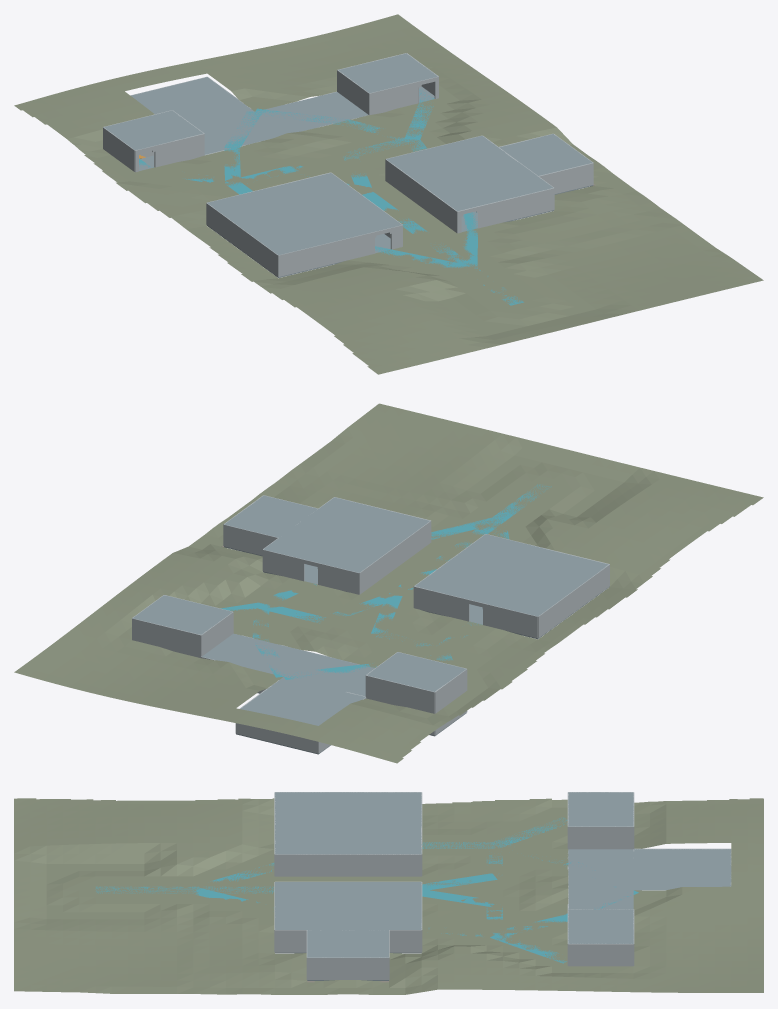
The model's file is open-circulation.glb.
3 views of the same model, one above another, from view 1: azimuth 30°, elevation 25°; view 2: azimuth 150°, elevation 25°; view 3: azimuth 270°, elevation 25° (orthographic). The views are drawn at different scales.
Visible parts, largest first — view 1: Saved editor terrain WLD-07, Ceiling cap chapel, Ceiling cap cottage, Ceiling cap chamber, Flat route shell Wall chapel S, Ceiling cap west-stair, Ceiling cap east-stair, Ceiling cap tool, Ceiling cap ossuary.002, Ceiling cap ossuary, Flat route shell Wall cottage S.001, Wall cottage W (+7 smaller); view 2: Saved editor terrain WLD-07, Ceiling cap chapel, Ceiling cap cottage, Ceiling cap chamber, Ceiling cap east-stair, Ceiling cap tool, Ceiling cap west-stair, Ceiling cap ossuary, Ceiling cap ossuary.002, Wall cottage W, Wall chapel W, Wall east-stair N (+10 smaller); view 3: Saved editor terrain WLD-07, Ceiling cap chapel, Ceiling cap cottage, Ceiling cap chamber, Wall chapel E, Ceiling cap east-stair, Ceiling cap west-stair, Ceiling cap tool, Wall tool E, Ceiling cap ossuary, Wall west-stair E, Ceiling cap ossuary.002 (+9 smaller).
Boxes of the visible parts, box(x1,y1,x2,y2) form: Saved editor terrain WLD-07: box(14, 14, 763, 374); Ceiling cap chapel: box(207, 173, 401, 255); Ceiling cap cottage: box(386, 135, 553, 211); Ceiling cap chamber: box(131, 77, 254, 126); Flat route shell Wall chapel S: box(278, 231, 376, 276); Ceiling cap west-stair: box(104, 110, 203, 149); Ceiling cap east-stair: box(338, 53, 437, 92); Ceiling cap tool: box(499, 134, 592, 175); Ceiling cap ossuary.002: box(204, 106, 368, 154); Ceiling cap ossuary: box(195, 92, 348, 135); Flat route shell Wall cottage S.001: box(476, 188, 554, 228); Wall cottage W: box(385, 159, 457, 233); Saved editor terrain WLD-07: box(14, 403, 763, 763); Ceiling cap chapel: box(415, 534, 608, 616); Ceiling cap cottage: box(263, 497, 429, 572); Ceiling cap chamber: box(240, 677, 365, 725); Ceiling cap east-stair: box(133, 595, 232, 634); Ceiling cap tool: box(224, 495, 317, 537); Ceiling cap west-stair: box(367, 652, 465, 691); Ceiling cap ossuary: box(202, 648, 365, 696); Ceiling cap ossuary.002: box(221, 633, 374, 677); Wall cottage W: box(359, 521, 431, 594); Wall chapel W: box(538, 564, 609, 638); Wall east-stair N: box(132, 618, 201, 656); Saved editor terrain WLD-07: box(14, 798, 763, 994); Ceiling cap chapel: box(275, 792, 421, 854); Ceiling cap cottage: box(275, 882, 421, 929); Ceiling cap chamber: box(633, 849, 731, 890); Wall chapel E: box(275, 854, 421, 876); Ceiling cap east-stair: box(568, 909, 633, 943); Ceiling cap west-stair: box(568, 792, 633, 826); Ceiling cap tool: box(307, 930, 388, 957); Wall tool E: box(307, 957, 388, 979); Ceiling cap ossuary: box(608, 849, 633, 909); Wall west-stair E: box(568, 826, 633, 849); Ceiling cap ossuary.002: box(568, 849, 593, 909).
Bounding box in the file's own units: 56 × 6.16 × 92.
